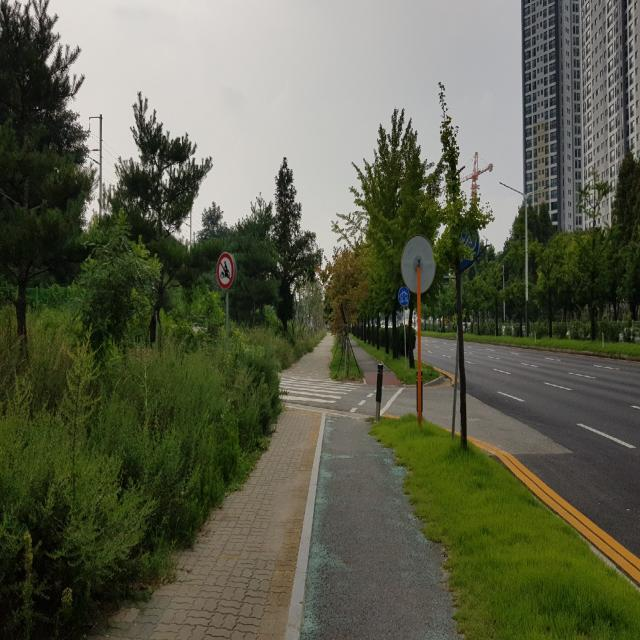횡단보도: (278, 378, 365, 404)
